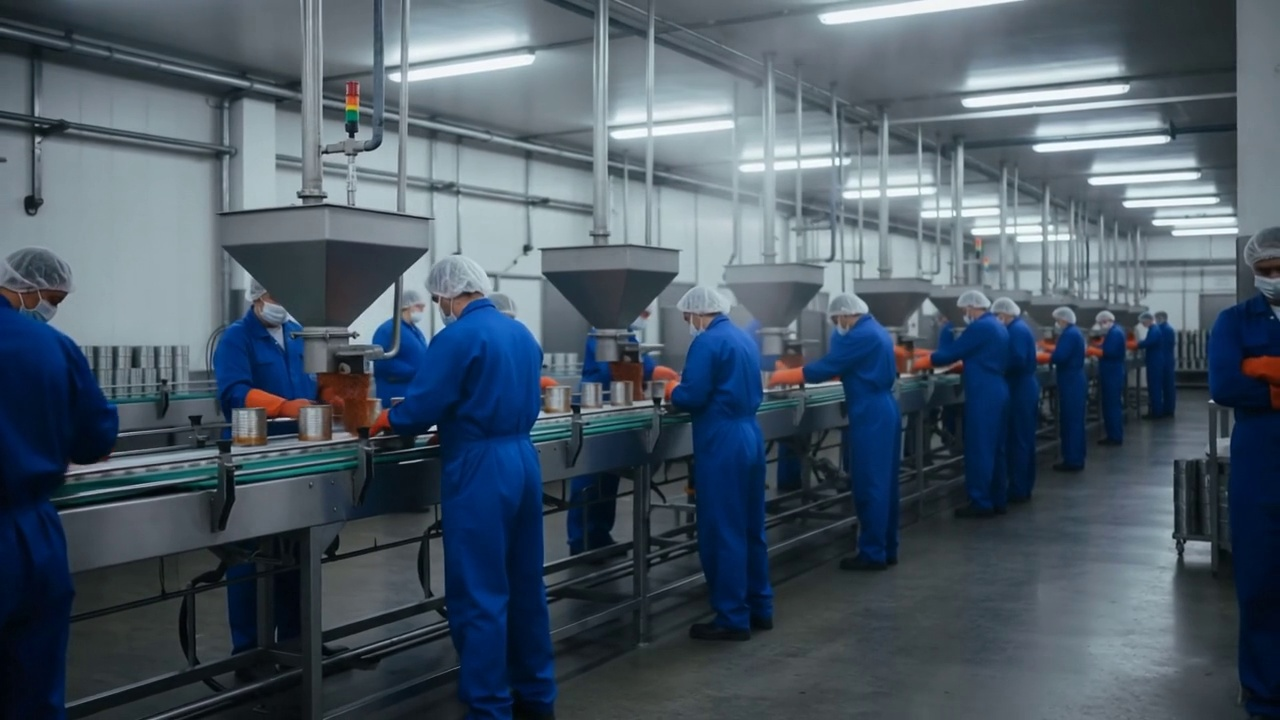employé: (417, 258, 519, 710), (0, 230, 70, 703), (680, 287, 771, 645), (1222, 223, 1280, 714), (827, 297, 896, 573), (233, 266, 306, 427), (953, 282, 1000, 514), (994, 289, 1031, 493), (1046, 303, 1090, 474), (565, 312, 651, 395), (385, 274, 426, 402), (22, 240, 84, 311), (1096, 308, 1124, 446), (1131, 303, 1162, 421), (1153, 298, 1179, 416)
employé actif: (423, 250, 510, 686), (685, 263, 762, 610), (244, 256, 301, 630), (834, 277, 879, 570), (27, 215, 49, 720), (583, 282, 628, 475), (964, 269, 993, 493), (1045, 279, 1076, 465), (997, 270, 1023, 477), (12, 238, 95, 302), (1097, 287, 1122, 438), (393, 262, 417, 417), (1135, 287, 1155, 405), (1161, 282, 1174, 405)
employé inactif: (1241, 246, 1264, 691)
machine: (0, 367, 1028, 668)
